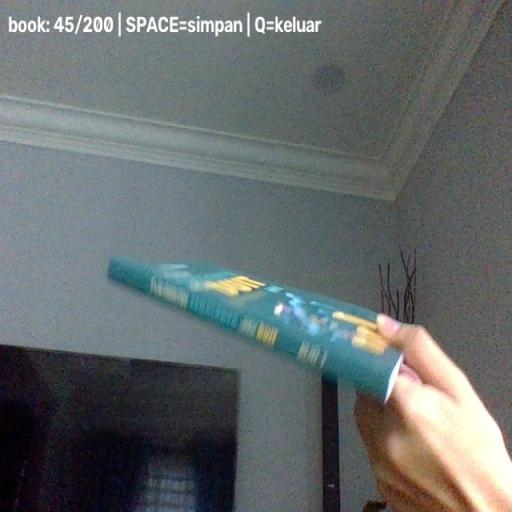Book: (107, 257, 406, 405)
